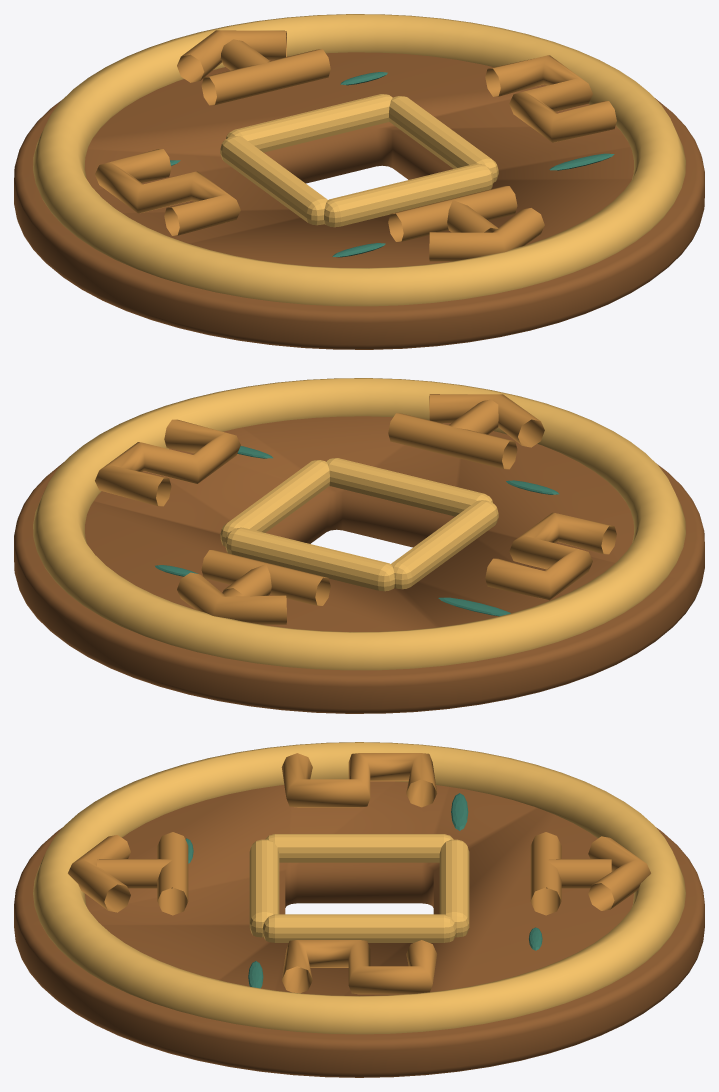
Rendered from tongqian.glb.
The picture shows the model from 3 angles, top to bottom: view 1: azimuth 30°, elevation 25°; view 2: azimuth 150°, elevation 25°; view 3: azimuth 270°, elevation 25°; orthographic projection.
Parts seen in each view (by area): view 1: coin-body, outer-rim, glyph-system, inner-rim, patina-marks; view 2: coin-body, outer-rim, glyph-system, inner-rim, patina-marks; view 3: coin-body, outer-rim, glyph-system, inner-rim, patina-marks.
Boxes of the visible parts, box(x1,y1,x2,y2) form: coin-body: box(14, 52, 704, 349); outer-rim: box(33, 14, 685, 306); glyph-system: box(95, 30, 616, 261); inner-rim: box(220, 94, 498, 227); patina-marks: box(170, 72, 614, 257); coin-body: box(14, 416, 704, 713); outer-rim: box(33, 378, 685, 670); glyph-system: box(95, 394, 616, 624); inner-rim: box(220, 458, 498, 591); patina-marks: box(155, 446, 559, 616); coin-body: box(14, 781, 704, 1077); outer-rim: box(33, 742, 685, 1034); glyph-system: box(68, 753, 650, 994); inner-rim: box(249, 834, 469, 942); patina-marks: box(185, 793, 542, 988).
Bounding box in the file's own units: 1 × 0.12 × 1.
